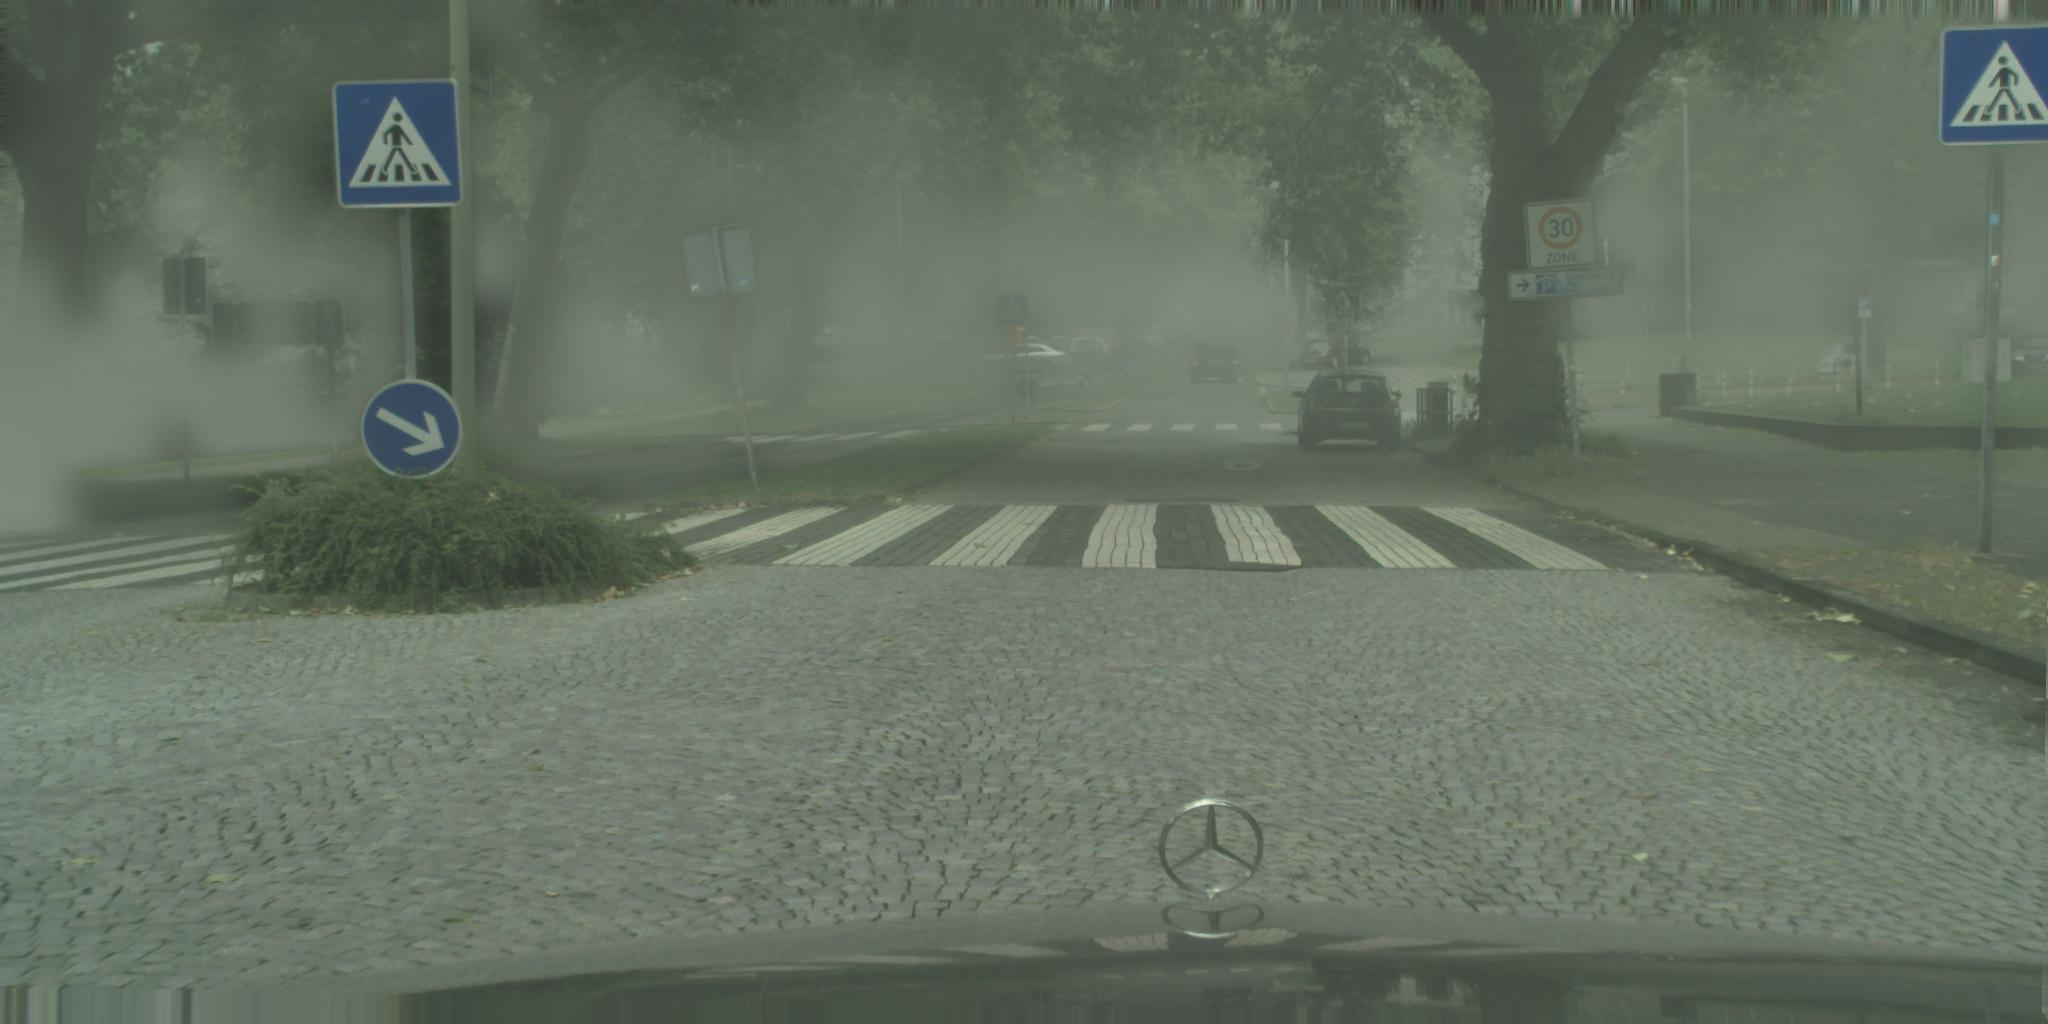car: (1292, 370, 1403, 455), (976, 344, 1074, 375), (1186, 337, 1241, 384), (1300, 338, 1373, 371), (1817, 344, 1876, 380), (1041, 338, 1098, 370), (1021, 337, 1072, 372), (2010, 334, 2048, 374), (1059, 329, 1122, 353), (1279, 340, 1327, 370), (1270, 330, 1327, 355), (1067, 338, 1113, 360), (1139, 333, 1166, 357), (1138, 327, 1162, 351), (1109, 334, 1136, 357), (1157, 327, 1178, 347), (1240, 323, 1259, 338), (1166, 327, 1178, 342), (1166, 330, 1176, 345)
